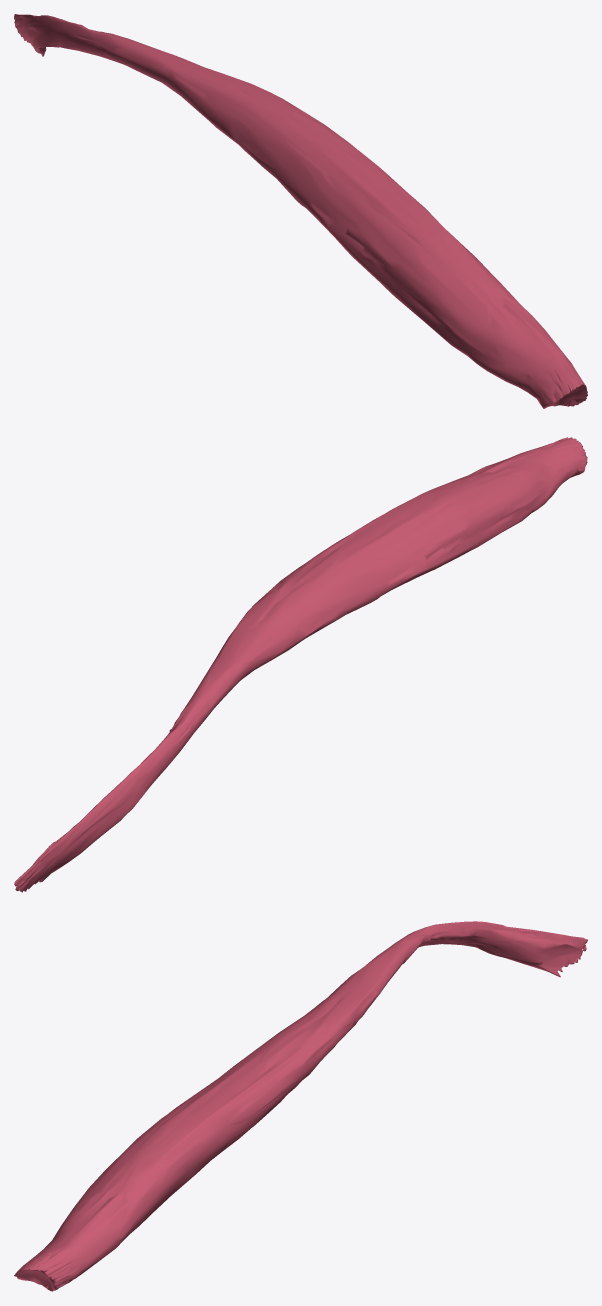
The picture shows the model from 3 angles, top to bottom: view 1: azimuth 30°, elevation 25°; view 2: azimuth 150°, elevation 25°; view 3: azimuth 330°, elevation 25°; orthographic projection. The views are drawn at different scales.
Visible parts, largest first — view 1: 左侧半腱肌; view 2: 左侧半腱肌; view 3: 左侧半腱肌.
Boxes of the visible parts, bbox=[...] form: 左侧半腱肌: bbox=[14, 14, 587, 408]; 左侧半腱肌: bbox=[14, 437, 587, 892]; 左侧半腱肌: bbox=[14, 921, 587, 1291].
Size of the model in its own units: 0.0531 by 0.0858 by 0.6777.
